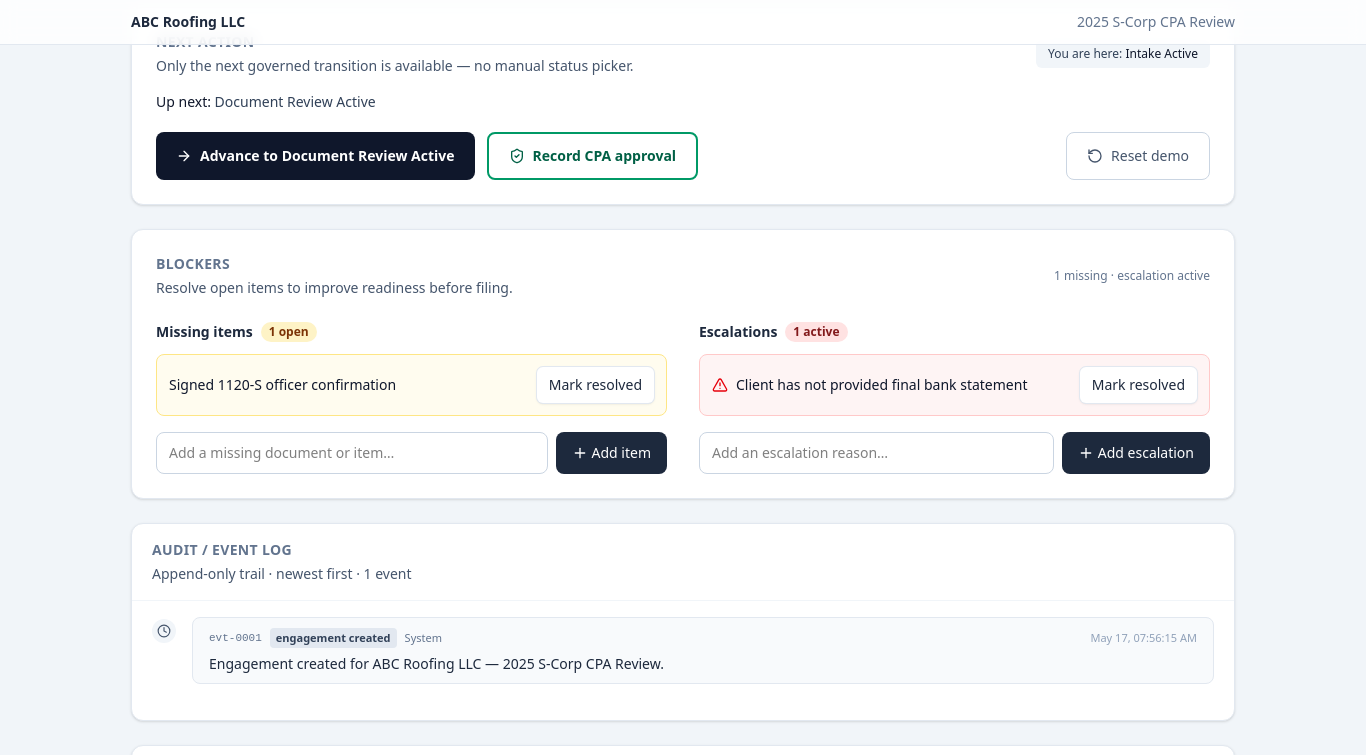
Test: Governed Workflow Dashboard UI › updates escalation status when escalation is resolved
The width and height of the screenshot is (1366, 755).
(page scrolled)
Click the button named "Resolve escalation: Client has not provided final bank statement": [1138, 384] box top-left (1080, 366), bottom-right (1197, 402)
(page scrolled)
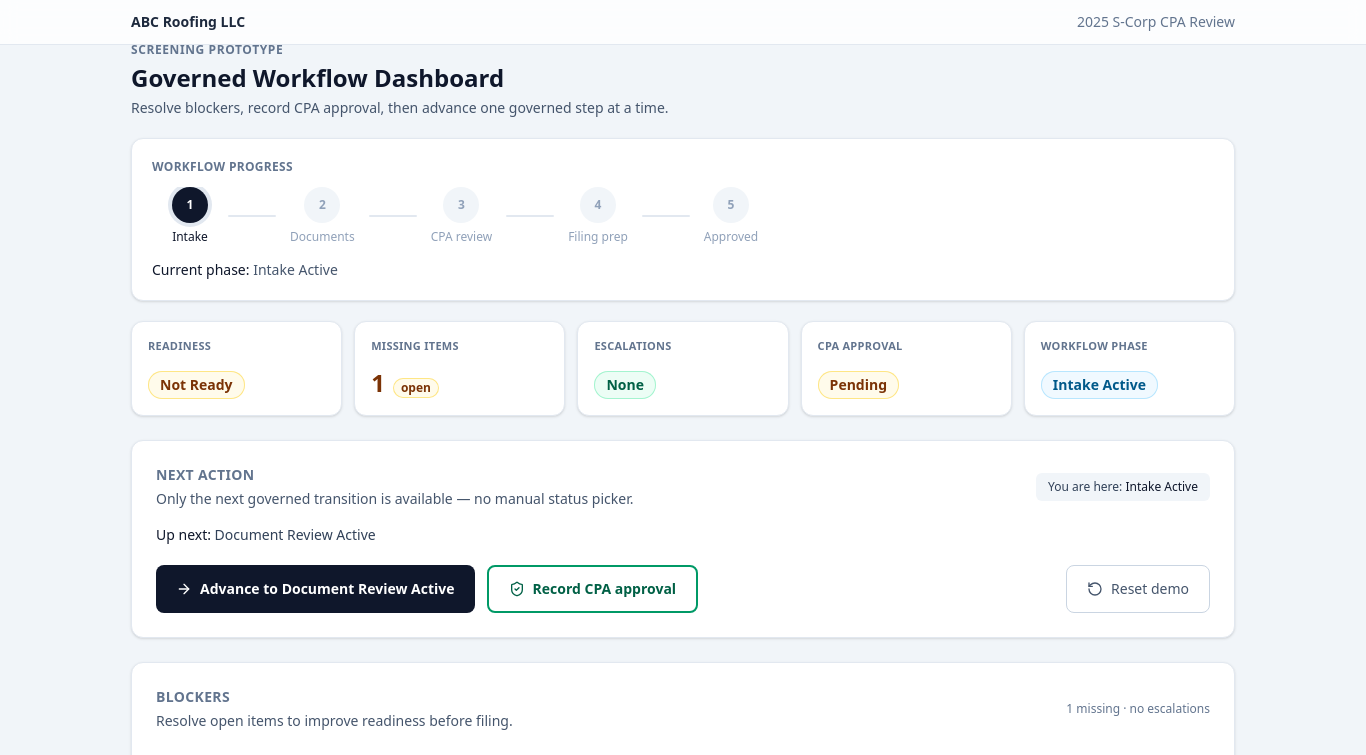
Now the element with test id "escalation-status" reads "None", box top-left (606, 374), bottom-right (644, 394)
